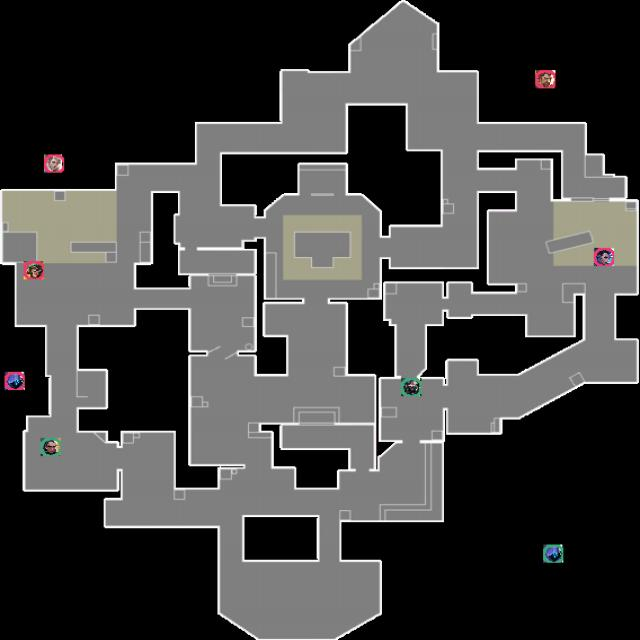atk_breach: (535, 70, 556, 88)
atk_killjoy: (24, 261, 44, 279)
atk_omen: (4, 372, 25, 390)
atk_sova: (44, 154, 64, 173)
atk_yoru: (594, 248, 614, 266)
def_omen: (543, 544, 563, 563)
def_reyna: (40, 438, 61, 456)
def_viper: (401, 378, 422, 396)
